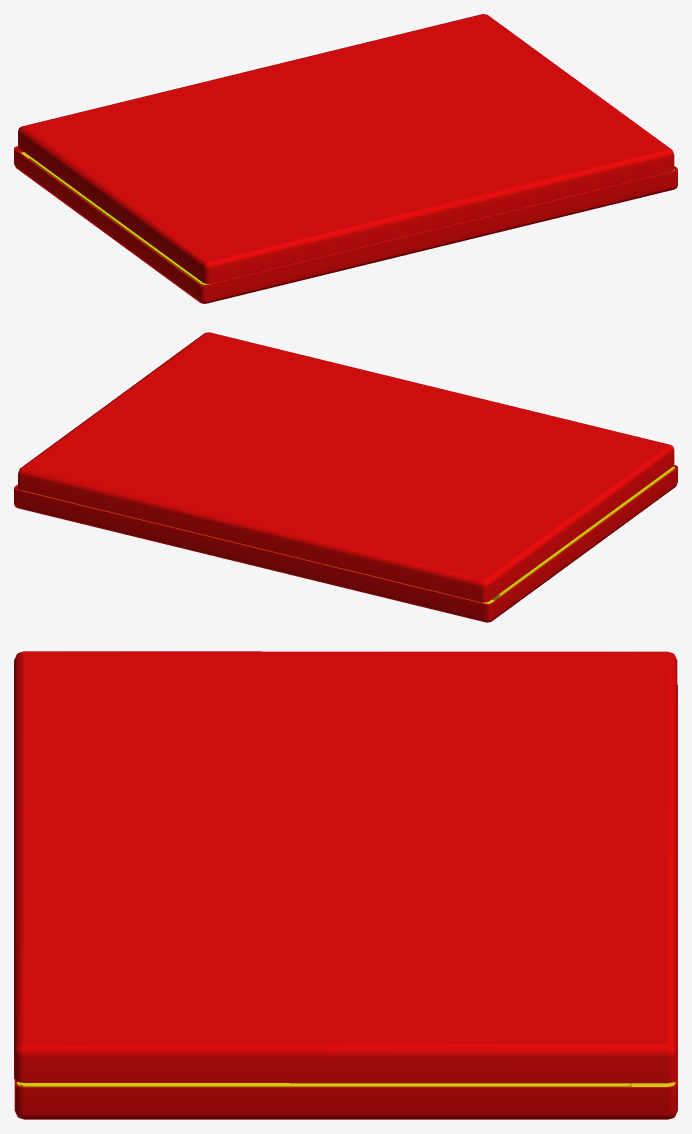
Rendered from RoboTHOR_laptops_grp.fbx.
The picture shows the model from 3 angles, top to bottom: view 1: azimuth 30°, elevation 25°; view 2: azimuth 150°, elevation 25°; view 3: azimuth 270°, elevation 25°; orthographic projection. The views are drawn at different scales.
Parts seen in each view (by area): view 1: robothor_laptop_props_america_screen, robothor_laptop_props_america; view 2: robothor_laptop_props_america_screen, robothor_laptop_props_america; view 3: robothor_laptop_props_america_screen, robothor_laptop_props_america.
Boxes of the visible parts, <box> form: robothor_laptop_props_america_screen: <box>18,14,674,283</box>; robothor_laptop_props_america: <box>14,146,677,303</box>; robothor_laptop_props_america_screen: <box>18,332,674,602</box>; robothor_laptop_props_america: <box>14,465,677,622</box>; robothor_laptop_props_america_screen: <box>14,651,677,1083</box>; robothor_laptop_props_america: <box>14,685,677,1119</box>.
Size of the model in its own units: 37 by 3.07 by 25.52.
